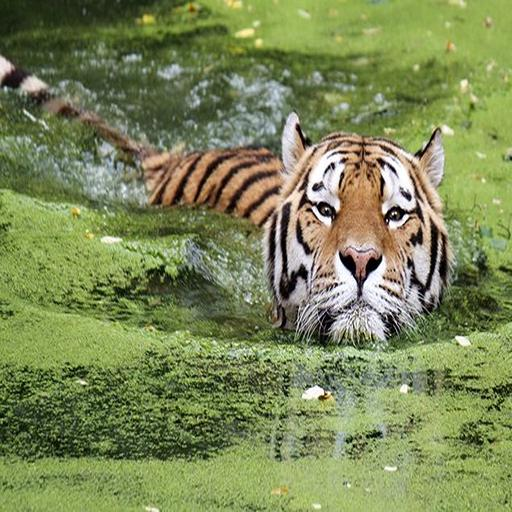Tiger: (0, 39, 473, 453)
